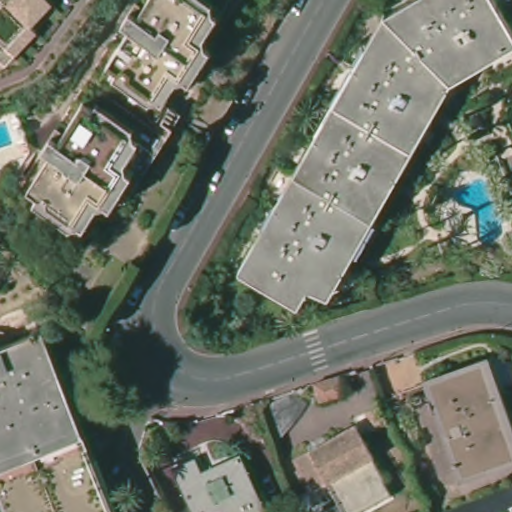pool: (451, 166, 507, 246), (1, 116, 19, 153)
